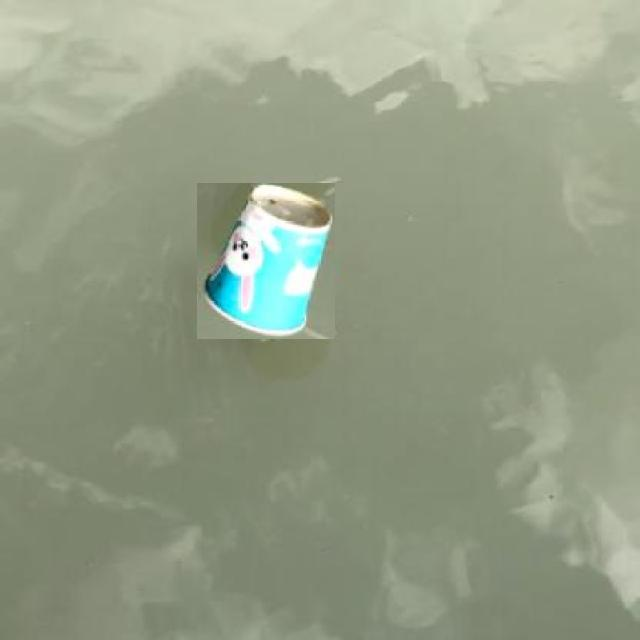Plastic cup: (197, 183, 335, 339)
